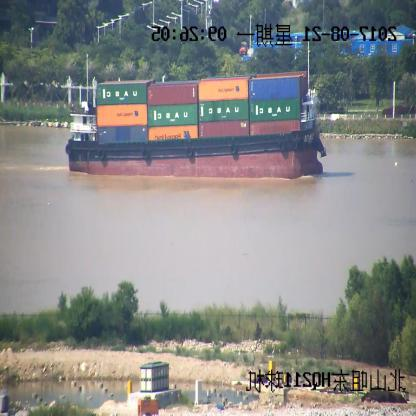Container Ship: (65, 47, 328, 180)
